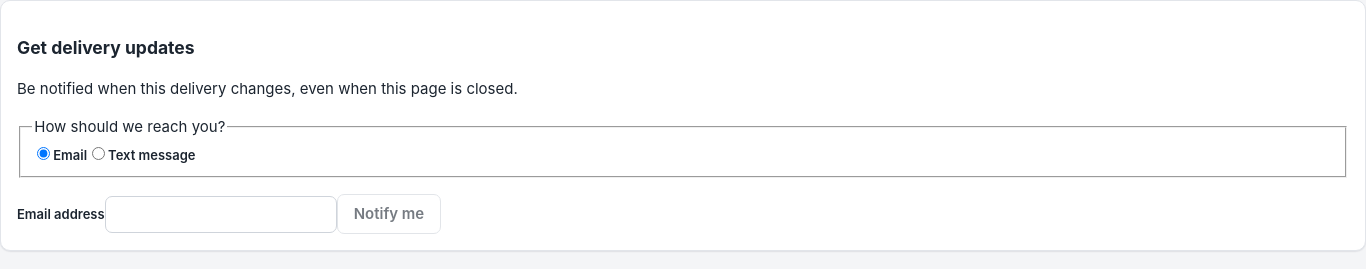
NotificationOptIn › offers a form, opts in with a valid email, and echoes the CSRF token
Check: the heading "Get delivery updates" is shown, box [17,36,195,58]
Type "r@example.com" into the field labelled "Email address" at (221, 214), box [105,196,337,233]
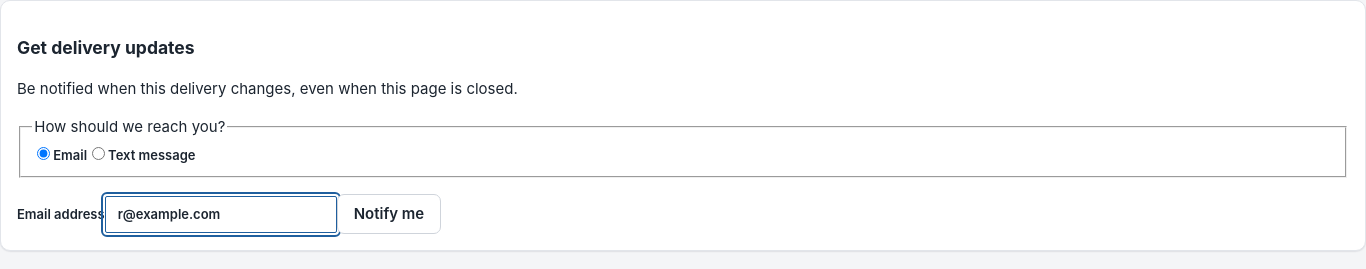
Click the button "Notify me" at (389, 214), box [337,194,441,234]
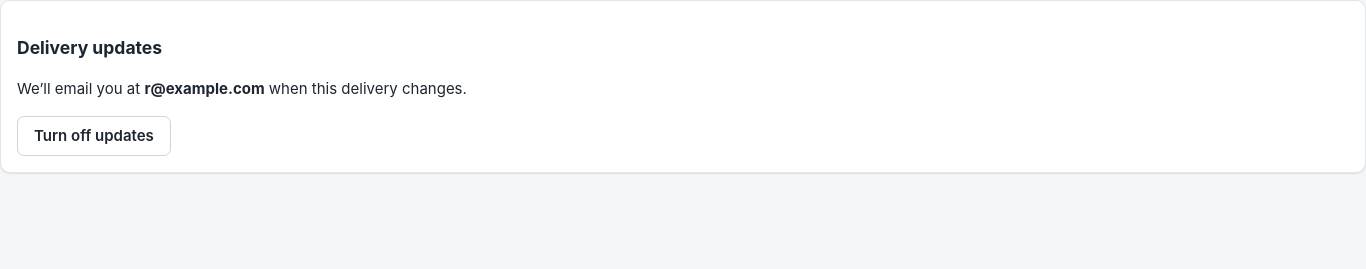
Check: the text "We’ll email you at r@example.com when this delivery changes." is shown, box [17,79,467,98]
Check: the text "r@example.com" is shown, box [144,79,265,98]
